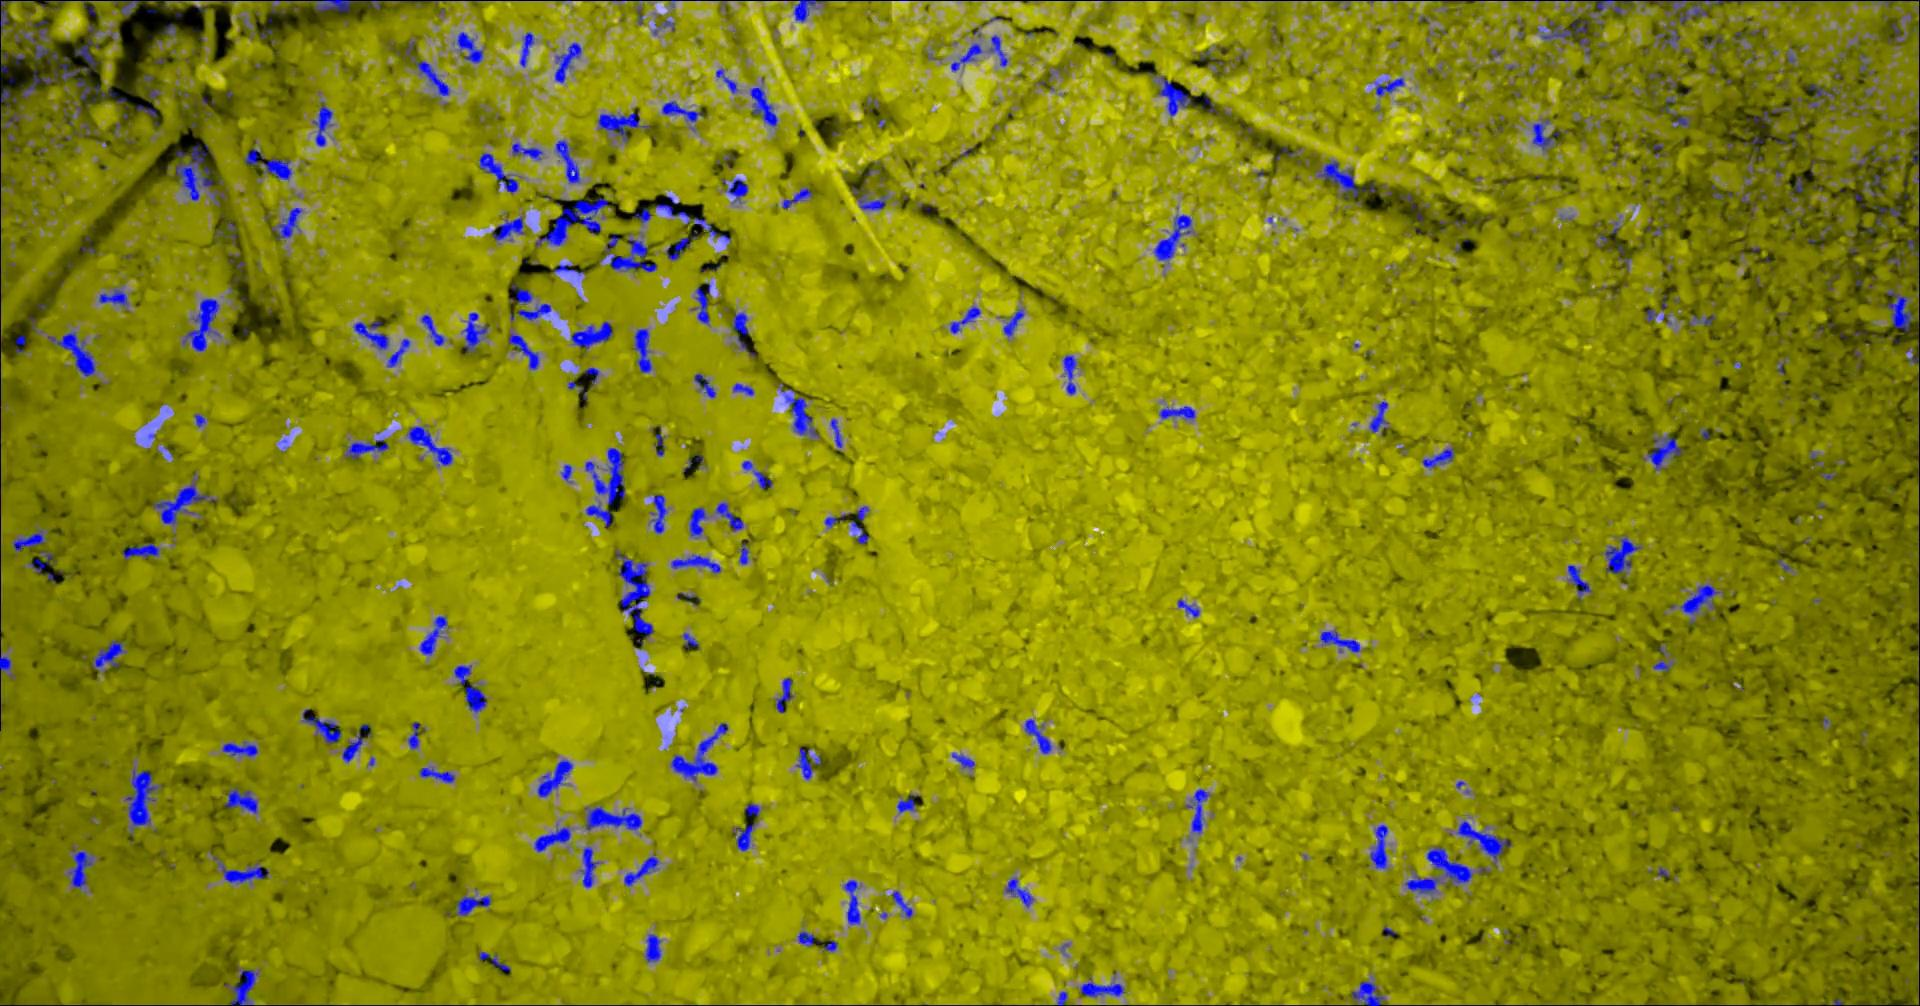ant: (1542, 0, 1632, 46), (654, 194, 730, 241), (670, 721, 728, 781), (152, 471, 216, 525), (403, 39, 450, 95), (1317, 160, 1375, 205), (124, 767, 163, 835), (1642, 0, 1749, 23), (1457, 821, 1511, 865), (584, 447, 623, 504), (778, 382, 819, 436), (9, 19, 57, 64), (47, 332, 95, 376), (182, 298, 218, 351), (1426, 846, 1472, 887), (1679, 583, 1723, 624), (406, 426, 452, 465), (1153, 213, 1191, 260), (477, 152, 519, 193), (1879, 288, 1919, 332), (453, 664, 486, 713), (597, 112, 649, 141), (1604, 536, 1641, 577), (244, 149, 291, 180), (610, 239, 657, 271), (309, 0, 437, 11), (301, 708, 342, 743), (1647, 433, 1683, 470), (536, 760, 571, 796), (1158, 76, 1191, 116), (585, 807, 641, 829), (1531, 118, 1570, 150), (419, 615, 448, 655), (570, 321, 612, 349), (507, 333, 538, 370), (554, 42, 582, 83), (555, 138, 580, 183), (749, 86, 777, 126), (342, 723, 370, 762), (217, 861, 268, 883), (623, 854, 658, 885), (665, 230, 701, 260), (352, 320, 389, 349), (0, 86, 22, 136), (270, 207, 302, 240), (1185, 788, 1208, 833), (136, 74, 160, 117), (462, 312, 488, 353), (230, 967, 257, 1005), (91, 639, 124, 669), (1023, 718, 1051, 753), (69, 848, 91, 890), (535, 826, 570, 852), (670, 554, 720, 573), (1658, 97, 1689, 127), (1319, 629, 1359, 652), (850, 185, 886, 210), (950, 42, 982, 70), (456, 30, 483, 64), (1804, 83, 1839, 108), (1567, 564, 1591, 600), (662, 100, 703, 121), (742, 460, 772, 488), (312, 102, 331, 146), (949, 306, 980, 333), (632, 328, 651, 372), (223, 788, 257, 813), (345, 439, 389, 459), (715, 500, 743, 530), (1004, 876, 1032, 906), (11, 528, 47, 551), (28, 551, 55, 582), (796, 747, 822, 779), (1079, 978, 1124, 996), (1404, 875, 1439, 898), (691, 282, 710, 323), (1747, 105, 1790, 123), (1369, 824, 1387, 868), (420, 314, 444, 345), (1351, 981, 1383, 1005), (1872, 205, 1905, 227), (491, 216, 524, 239), (455, 894, 491, 915), (843, 879, 860, 923), (580, 846, 598, 887), (792, 0, 825, 22), (1421, 446, 1454, 467), (1399, 192, 1423, 221), (850, 506, 869, 542), (731, 311, 749, 351), (112, 0, 157, 15), (509, 304, 550, 320), (386, 338, 409, 367), (733, 821, 756, 850), (1906, 239, 1919, 290), (775, 677, 792, 713), (782, 187, 811, 208), (1002, 307, 1023, 337), (121, 542, 159, 559), (477, 951, 510, 970), (1369, 401, 1388, 433), (650, 494, 665, 533), (1655, 22, 1679, 46), (585, 504, 611, 527), (418, 767, 455, 782), (1374, 77, 1403, 97), (715, 69, 738, 93), (724, 178, 747, 202), (1062, 354, 1076, 394), (989, 36, 1007, 66), (688, 507, 706, 537), (221, 741, 257, 756), (891, 890, 912, 917), (510, 142, 542, 159), (1863, 173, 1884, 197), (693, 373, 715, 398), (1869, 145, 1898, 163), (1158, 405, 1195, 419), (519, 30, 533, 66), (0, 51, 24, 71), (98, 288, 127, 305), (408, 721, 424, 749), (509, 285, 532, 304), (645, 934, 660, 962), (897, 793, 917, 813), (0, 0, 11, 34), (1177, 600, 1199, 617), (951, 752, 974, 768), (797, 930, 819, 946), (223, 220, 237, 245), (1617, 244, 1630, 269), (1743, 135, 1763, 152), (1688, 314, 1714, 326), (568, 380, 585, 399), (1905, 339, 1919, 363), (830, 418, 841, 450), (582, 367, 599, 385), (1887, 250, 1906, 267), (654, 426, 664, 455), (1702, 33, 1723, 46), (552, 264, 583, 273), (604, 235, 618, 254), (1887, 23, 1900, 43), (824, 514, 844, 527), (634, 207, 650, 222), (682, 633, 698, 648), (731, 384, 753, 395), (1859, 64, 1876, 77), (72, 122, 89, 136), (738, 542, 748, 564), (14, 334, 25, 353), (63, 102, 72, 124), (560, 464, 571, 481), (0, 654, 10, 673), (1911, 141, 1919, 165), (163, 23, 177, 36), (745, 803, 759, 815), (1652, 661, 1669, 671), (193, 413, 204, 427), (823, 940, 837, 951), (1794, 175, 1803, 192), (1057, 991, 1067, 1005)
